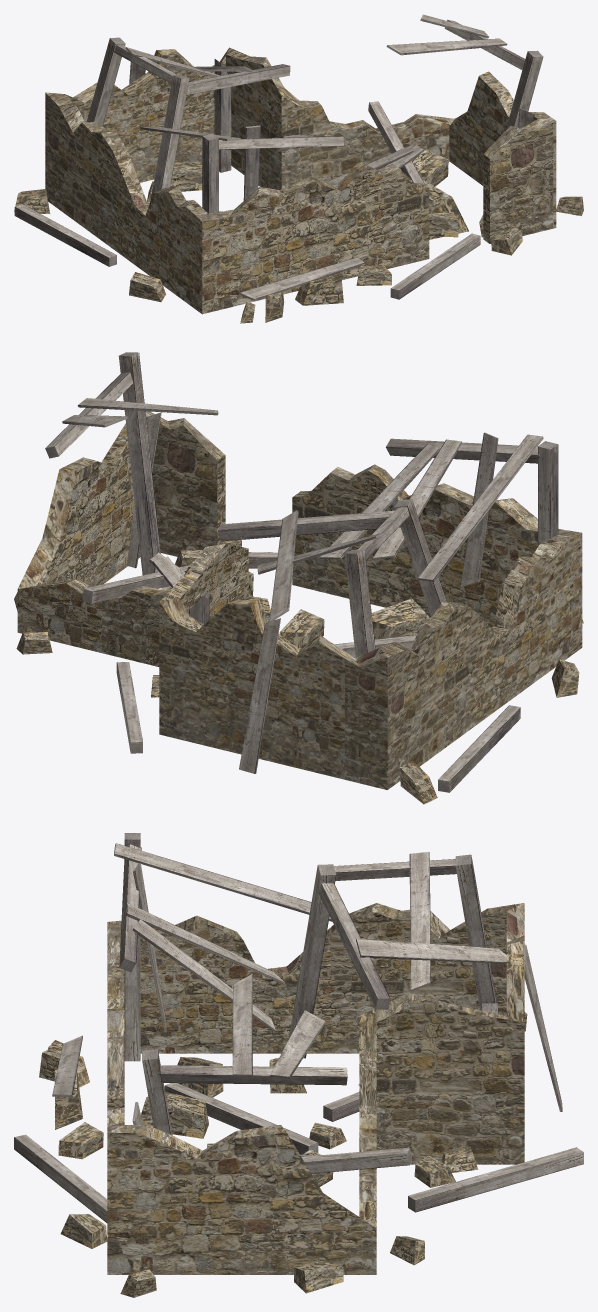
The model's file is ruined_house_02.fbx.
3 views of the same model, one above another, from view 1: azimuth 30°, elevation 25°; view 2: azimuth 150°, elevation 25°; view 3: azimuth 270°, elevation 25° (orthographic). The views are drawn at different scales.
Parts seen in each view (by area): view 1: Cube.028; view 2: Cube.028; view 3: Cube.028.
Boxes of the visible parts, left/top/right/bottom form: Cube.028: left=14, top=14, right=583, bottom=323; Cube.028: left=14, top=352, right=583, bottom=804; Cube.028: left=14, top=833, right=583, bottom=1297.
Bounding box in the file's own units: 492 × 194 × 423.
